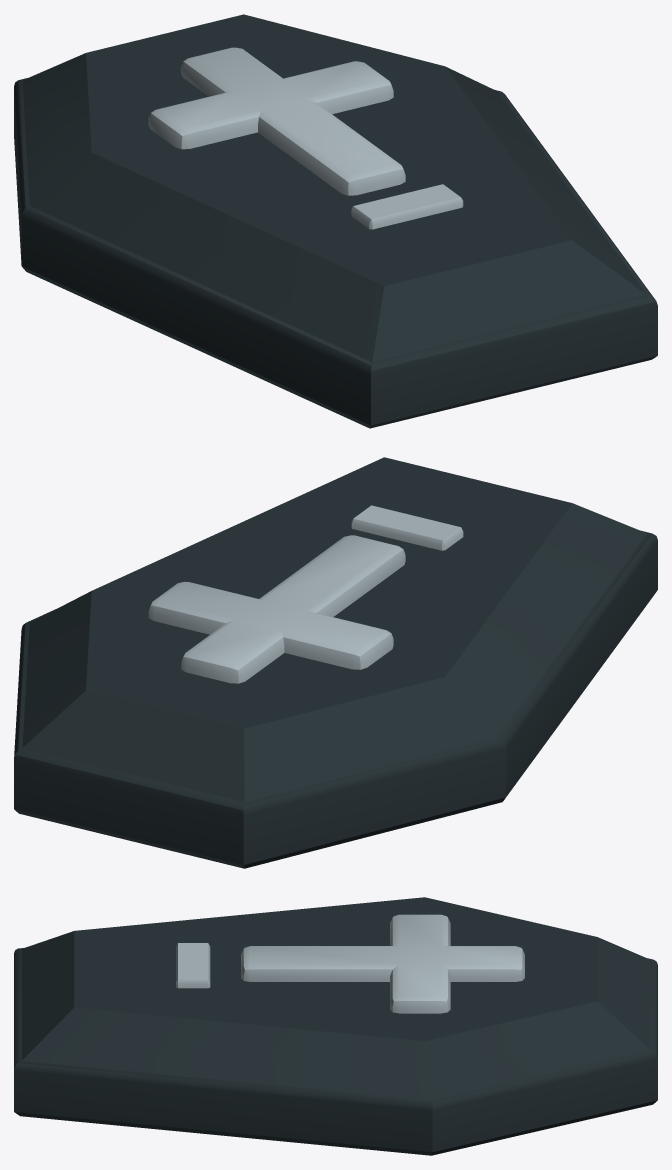
File: coffinB_top.gltf.glb
3 renders of one model, top to bottom at view 1: azimuth 30°, elevation 25°; view 2: azimuth 150°, elevation 25°; view 3: azimuth 270°, elevation 25°, orthographic. The views are drawn at different scales.
Parts seen in each view (by area): view 1: coffinB_top; view 2: coffinB_top; view 3: coffinB_top.
Boxes of the visible parts, bbox=[...] form: coffinB_top: bbox=[14, 14, 657, 428]; coffinB_top: bbox=[14, 457, 657, 868]; coffinB_top: bbox=[14, 897, 657, 1155].
Bounding box in the file's own units: 1.45 × 0.3547 × 2.
